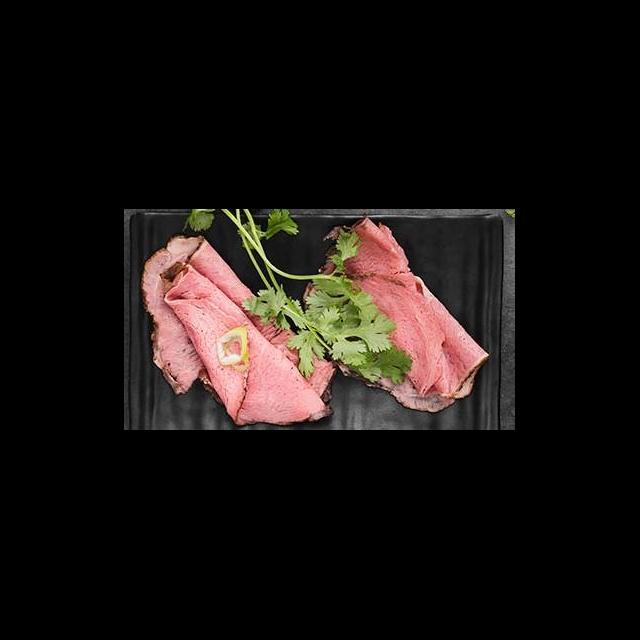thit bo: (136, 232, 338, 430), (299, 216, 492, 416)
